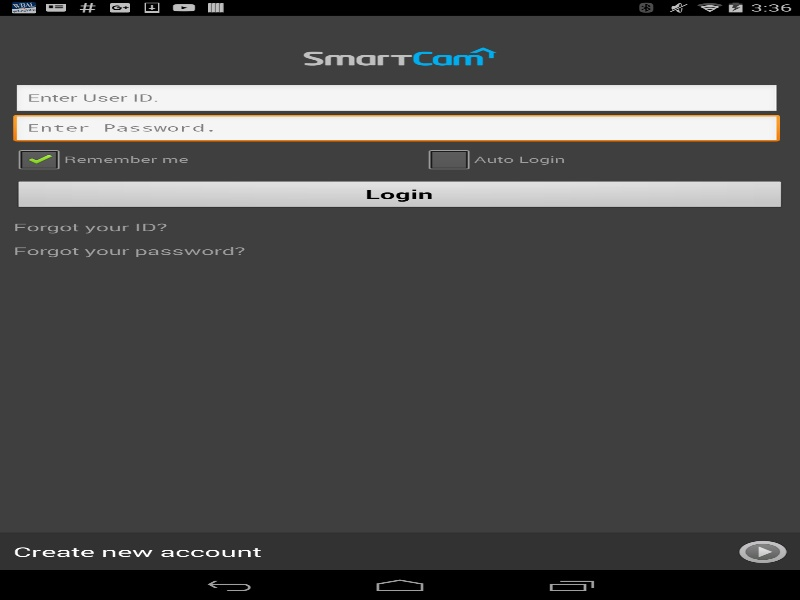Button: (13, 180, 786, 210)
Input: (13, 84, 780, 114), (13, 114, 780, 144)
